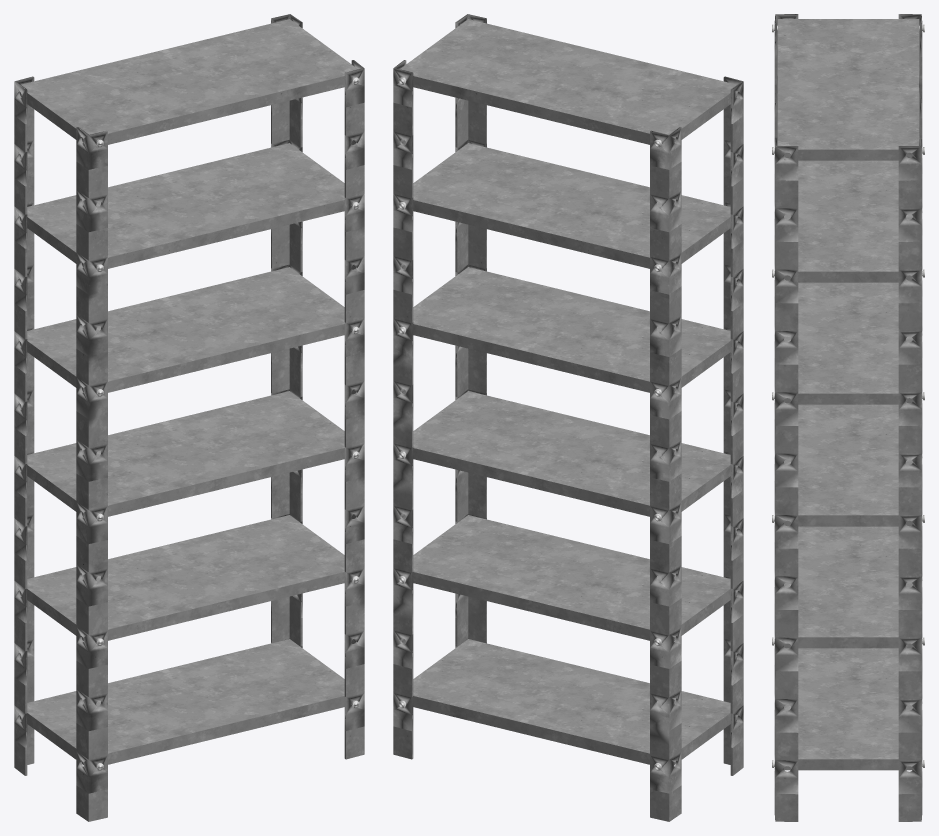
Rendered from Prateleira.glb.
The picture shows the model from 3 angles, left to right: view 1: azimuth 30°, elevation 25°; view 2: azimuth 150°, elevation 25°; view 3: azimuth 270°, elevation 25°; orthographic projection.
Visible parts, largest first — view 1: Cube.002, Cube.001, Cube.014; view 2: Cube.002, Cube.001, Cube.014; view 3: Cube.002, Cube.001, Cube.014.
Part boxes in pixels (x1,y1,x2,y2): Cube.002: (20,19,357,764); Cube.001: (14,14,364,821); Cube.014: (96,77,359,770); Cube.002: (400,19,737,764); Cube.001: (393,14,743,821); Cube.014: (398,77,661,770); Cube.002: (777,19,919,770); Cube.001: (774,14,922,821); Cube.014: (772,24,924,767).
Bounding box in the file's own units: 1.38 × 3.27 × 0.6723.
1 material, 1 textured.
